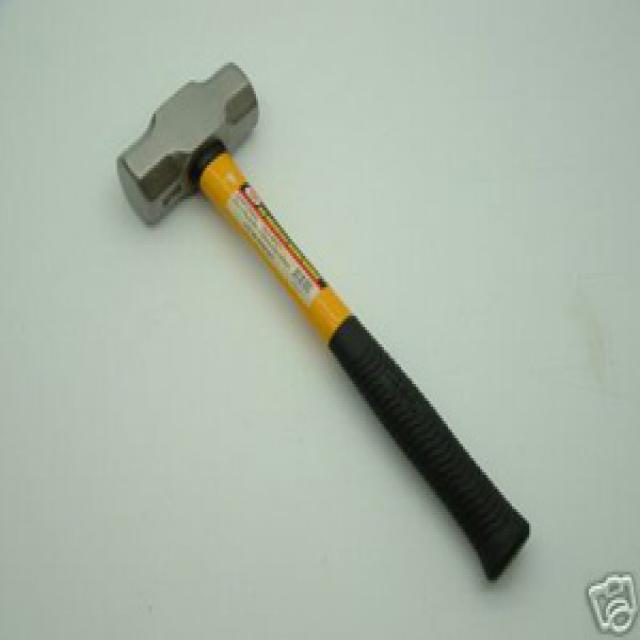hammer: (99, 49, 546, 608)
